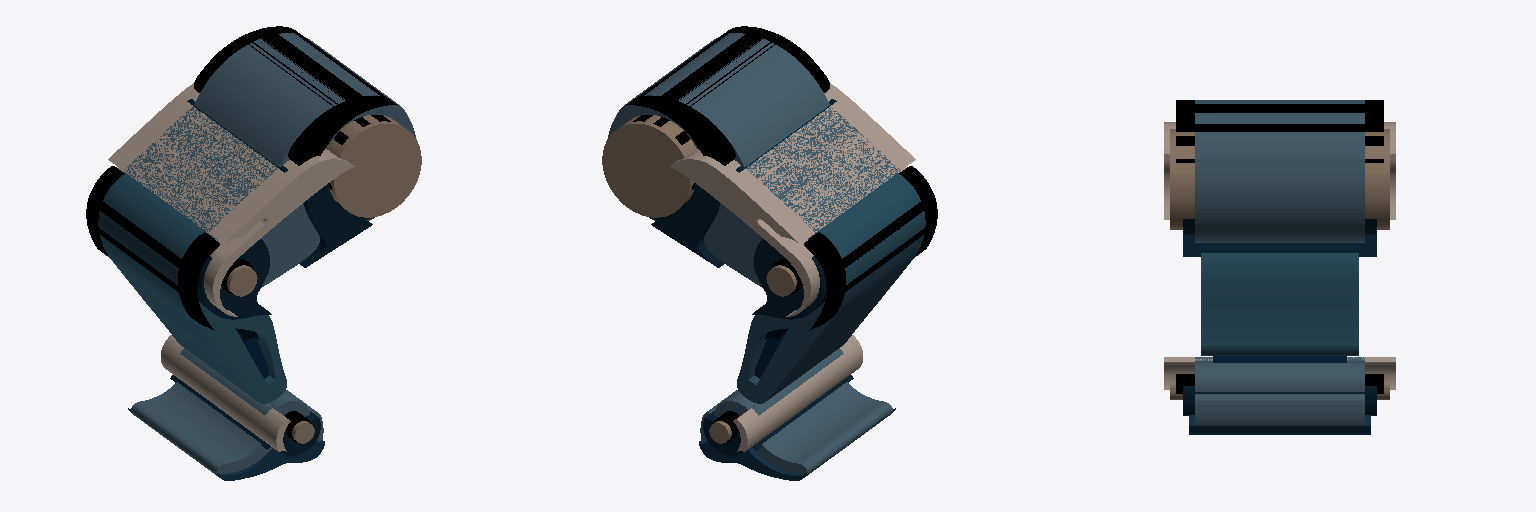
3 views of the same model, side by side, from view 1: azimuth 30°, elevation 25°; view 2: azimuth 150°, elevation 25°; view 3: azimuth 270°, elevation 25° (orthographic).
Parts seen in each view (by area): view 1: U+1F9BF_layer09_obj01, U+1F9BF_layer03_obj00, U+1F9BF_layer04_obj03, U+1F9BF_layer04_obj00, U+1F9BF_layer08_obj01, U+1F9BF_layer04_obj02, U+1F9BF_layer07_obj00, U+1F9BF_layer07_obj02, U+1F9BF_layer09_obj00, U+1F9BF_layer06_obj01, U+1F9BF_layer06_obj02, U+1F9BF_layer04_obj01 (+3 smaller); view 2: U+1F9BF_layer09_obj01, U+1F9BF_layer03_obj00, U+1F9BF_layer04_obj03, U+1F9BF_layer04_obj00, U+1F9BF_layer08_obj01, U+1F9BF_layer04_obj02, U+1F9BF_layer07_obj00, U+1F9BF_layer07_obj02, U+1F9BF_layer09_obj00, U+1F9BF_layer06_obj01, U+1F9BF_layer06_obj02, U+1F9BF_layer04_obj01 (+3 smaller); view 3: U+1F9BF_layer04_obj03, U+1F9BF_layer03_obj00, U+1F9BF_layer04_obj02, U+1F9BF_layer04_obj01, U+1F9BF_layer08_obj01, U+1F9BF_layer07_obj00, U+1F9BF_layer06_obj02, U+1F9BF_layer05_obj00, U+1F9BF_layer09_obj00, U+1F9BF_layer09_obj01, U+1F9BF_layer06_obj00, U+1F9BF_layer01_obj00 (+2 smaller).
Part boxes in pixels (x1,y1,x2,y2): U+1F9BF_layer09_obj01: (108, 83, 354, 316); U+1F9BF_layer03_obj00: (98, 173, 286, 403); U+1F9BF_layer04_obj03: (194, 33, 415, 220); U+1F9BF_layer04_obj00: (124, 106, 319, 287); U+1F9BF_layer08_obj01: (327, 115, 421, 217); U+1F9BF_layer04_obj02: (131, 382, 323, 475); U+1F9BF_layer07_obj00: (194, 26, 396, 165); U+1F9BF_layer07_obj02: (86, 166, 219, 330); U+1F9BF_layer09_obj00: (161, 335, 290, 451); U+1F9BF_layer06_obj01: (187, 99, 372, 267); U+1F9BF_layer06_obj02: (197, 239, 271, 319); U+1F9BF_layer04_obj01: (180, 348, 309, 424); U+1F9BF_layer09_obj01: (669, 83, 915, 316); U+1F9BF_layer03_obj00: (737, 173, 925, 403); U+1F9BF_layer04_obj03: (608, 33, 829, 220); U+1F9BF_layer04_obj00: (704, 108, 899, 287); U+1F9BF_layer08_obj01: (602, 115, 696, 217); U+1F9BF_layer04_obj02: (700, 382, 892, 475); U+1F9BF_layer07_obj00: (627, 26, 829, 165); U+1F9BF_layer07_obj02: (804, 166, 937, 330); U+1F9BF_layer09_obj00: (733, 335, 862, 451); U+1F9BF_layer06_obj01: (651, 99, 836, 267); U+1F9BF_layer06_obj02: (752, 239, 826, 319); U+1F9BF_layer04_obj01: (714, 348, 843, 438); U+1F9BF_layer04_obj03: (1195, 100, 1364, 242); U+1F9BF_layer03_obj00: (1201, 253, 1358, 355); U+1F9BF_layer04_obj02: (1195, 394, 1364, 425); U+1F9BF_layer04_obj01: (1195, 357, 1364, 391); U+1F9BF_layer08_obj01: (1170, 129, 1389, 229); U+1F9BF_layer07_obj00: (1176, 100, 1383, 131); U+1F9BF_layer06_obj02: (1183, 239, 1376, 256); U+1F9BF_layer05_obj00: (1189, 415, 1370, 434); U+1F9BF_layer09_obj00: (1164, 357, 1395, 389); U+1F9BF_layer09_obj01: (1164, 122, 1395, 219); U+1F9BF_layer06_obj00: (1183, 389, 1376, 415); U+1F9BF_layer01_obj00: (1213, 356, 1346, 362).
Bounding box in the file's own units: 0.2236 × 0.3176 × 0.19.